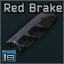AR-10 Fortis RED Brake 7.62x51 muzzle brake: (0, 0, 64, 64)
